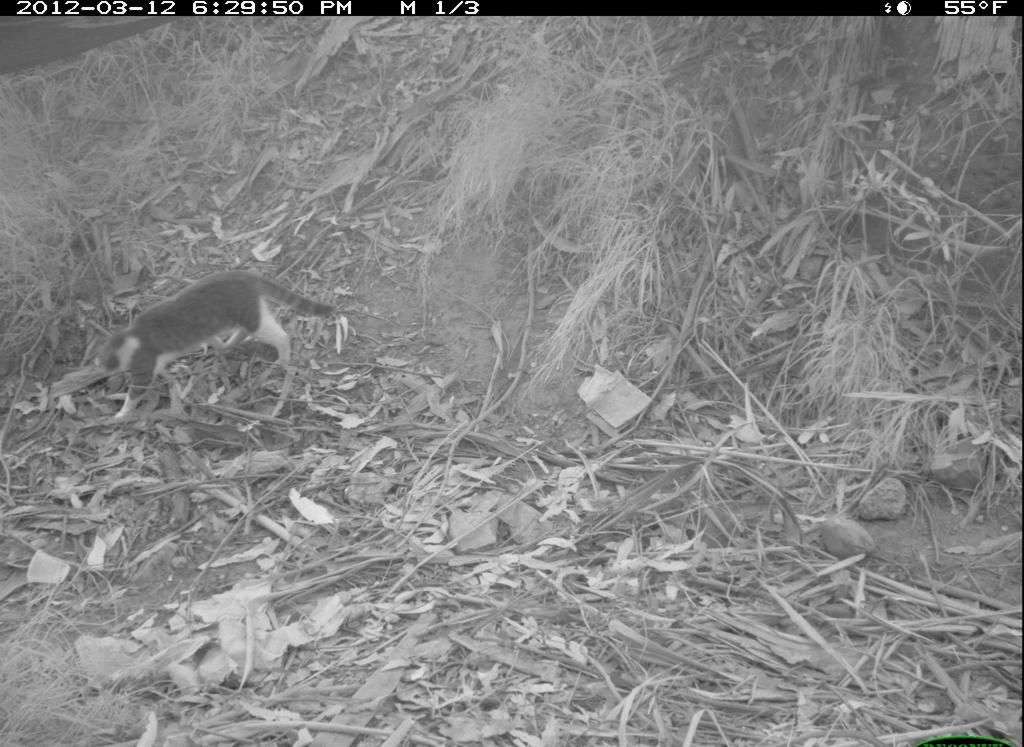cat: (88, 265, 345, 429)
